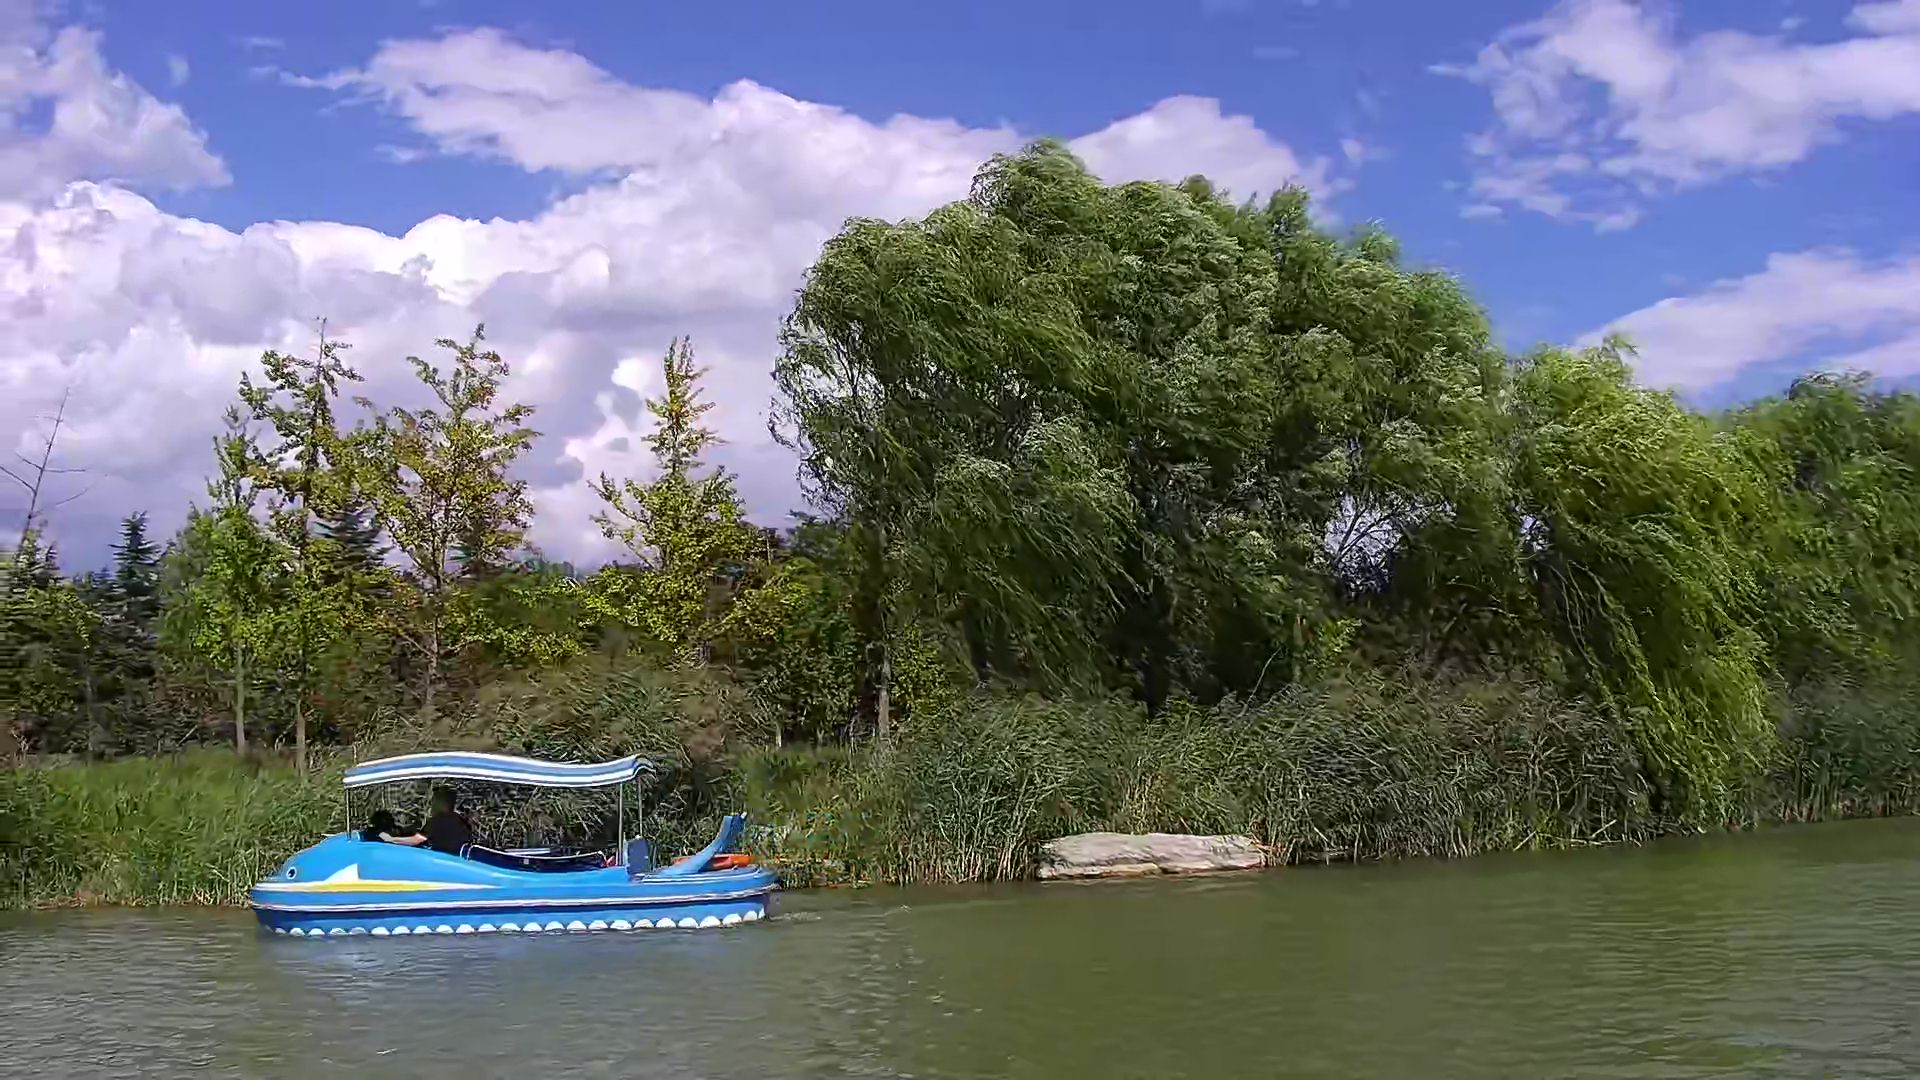boat: (250, 753, 774, 937)
person: (411, 787, 467, 856)
rock: (1037, 829, 1268, 884)
